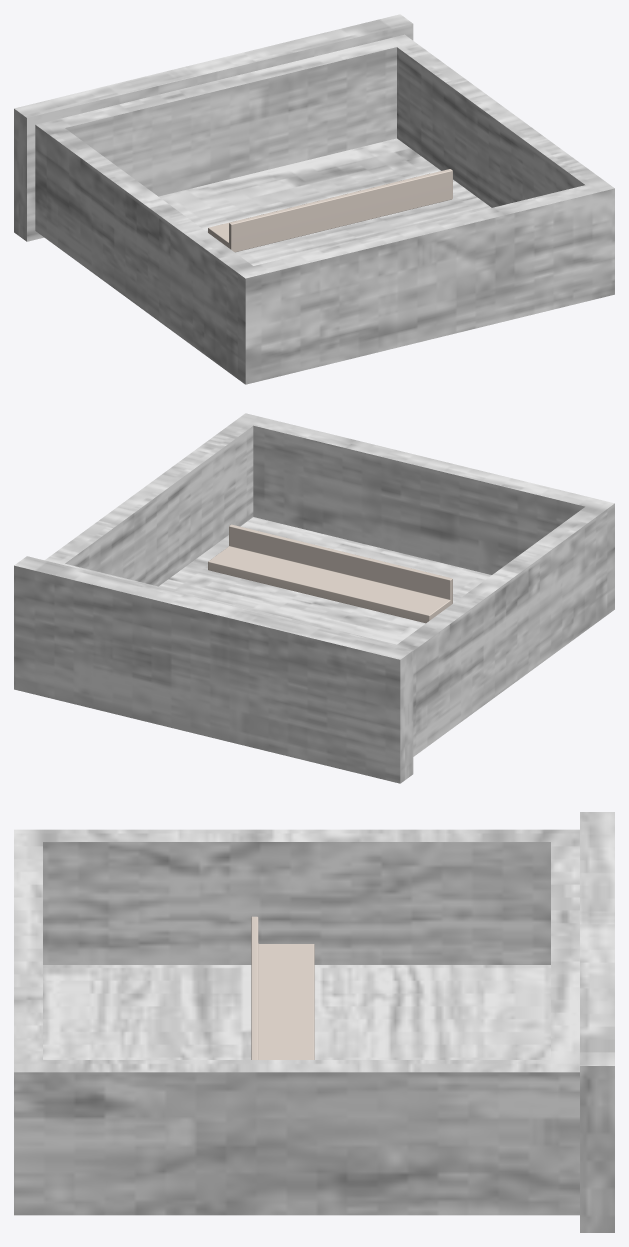
The model's file is Drawer_c02246ba.obj.
The picture shows the model from 3 angles, top to bottom: view 1: azimuth 30°, elevation 25°; view 2: azimuth 150°, elevation 25°; view 3: azimuth 270°, elevation 25°; orthographic projection. The views are drawn at different scales.
Visible parts, largest first — view 1: Mesh_01_f4609a16, handle_3_178mm_01_fd4d0618; view 2: Mesh_01_f4609a16, handle_3_178mm_01_fd4d0618; view 3: Mesh_01_f4609a16, handle_3_178mm_01_fd4d0618.
Boxes of the visible parts, <box> form: Mesh_01_f4609a16: <box>14,14,614,384</box>; handle_3_178mm_01_fd4d0618: <box>208,169,452,252</box>; Mesh_01_f4609a16: <box>14,413,614,783</box>; handle_3_178mm_01_fd4d0618: <box>208,524,452,623</box>; Mesh_01_f4609a16: <box>14,812,614,1232</box>; handle_3_178mm_01_fd4d0618: <box>251,916,314,1059</box>.
Bounding box in the file's own units: 0.31 × 0.095 × 0.31.
